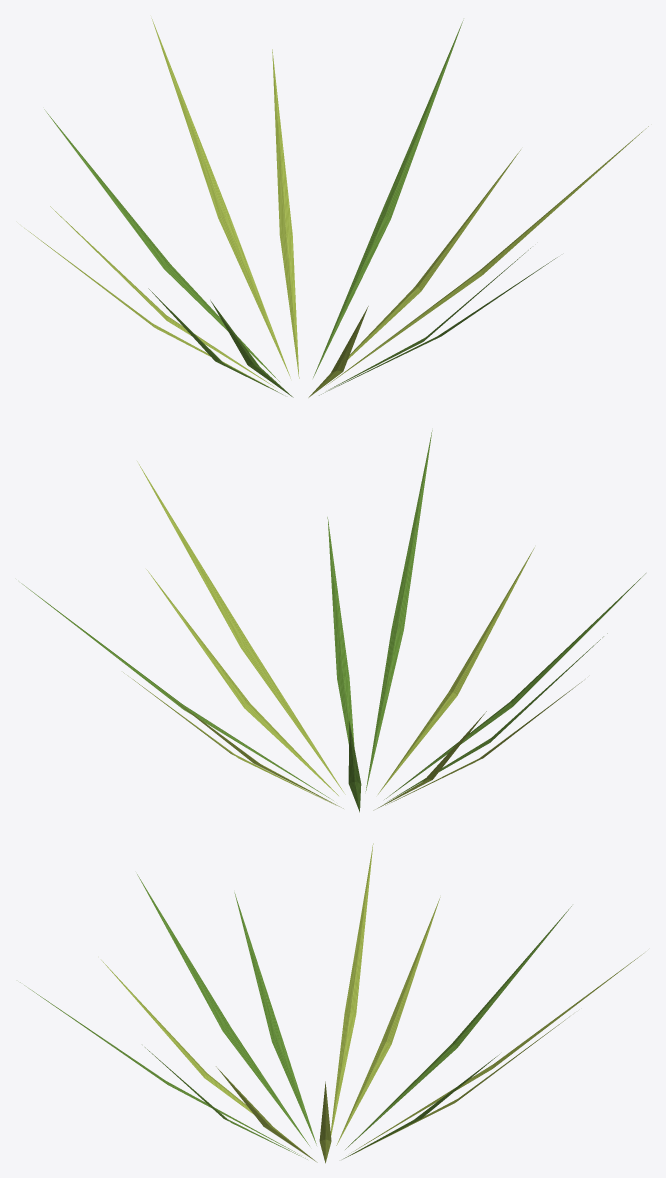
Rendered from crop-lemongrass-ready.glb.
3 views of the same model, one above another, from view 1: azimuth 30°, elevation 25°; view 2: azimuth 150°, elevation 25°; view 3: azimuth 270°, elevation 25° (orthographic). The views are drawn at different scales.
Parts seen in each view (by area): view 1: crop-lemongrass-ready; view 2: crop-lemongrass-ready; view 3: crop-lemongrass-ready.
Part boxes in pixels (x1=…): crop-lemongrass-ready: x1=24, y1=18, x2=648, y2=397; crop-lemongrass-ready: x1=21, y1=430, x2=645, y2=812; crop-lemongrass-ready: x1=20, y1=843, x2=643, y2=1163.
Bounding box in the file's own units: 1.57 × 0.6478 × 1.7.
Materials: 1 (1 with a texture image).
